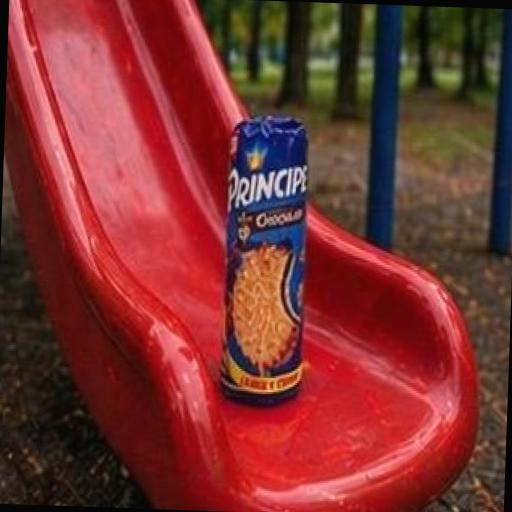prince: (134, 54, 422, 480)
